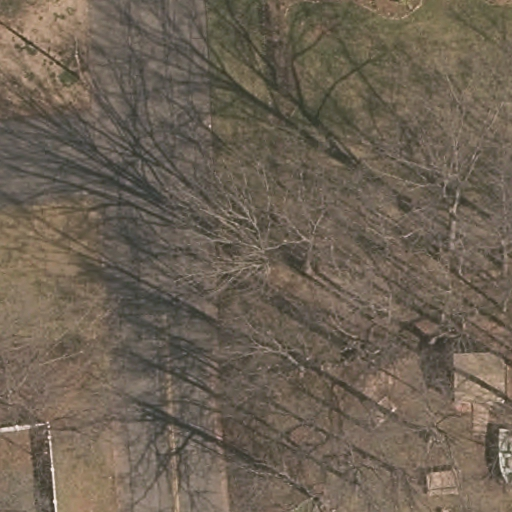DT: (61, 36, 98, 92)
